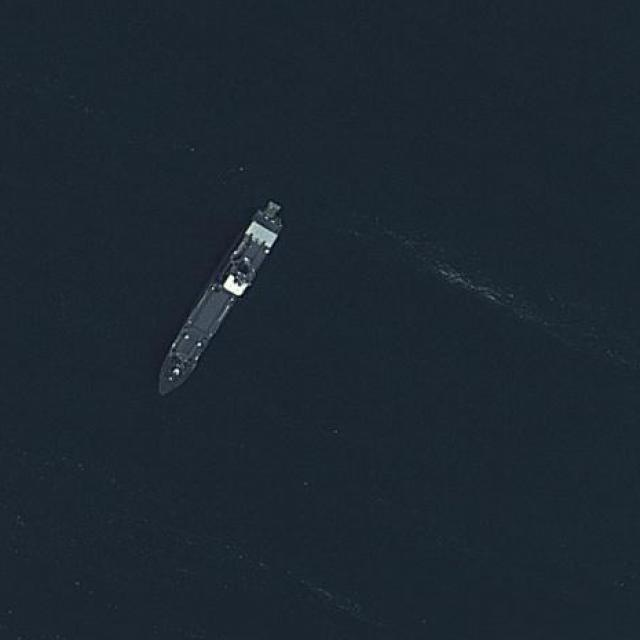Landing: (144, 195, 294, 407)
